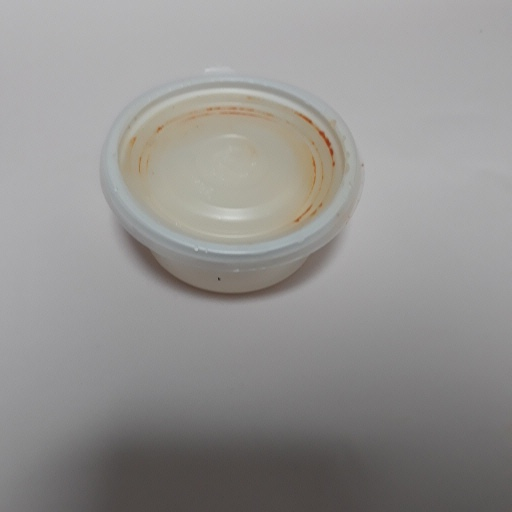Plastic_5: (94, 66, 371, 302)
